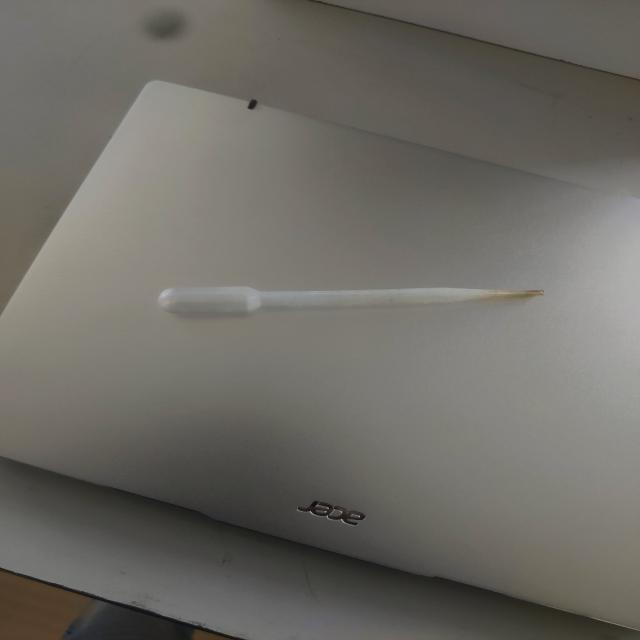Pipette: (118, 237, 590, 348)
